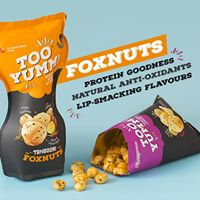plastic: (2, 13, 65, 178), (102, 109, 197, 156)
tooyumm: (12, 40, 61, 86), (133, 116, 158, 154)
wrapper: (1, 20, 65, 173), (91, 101, 199, 166)
